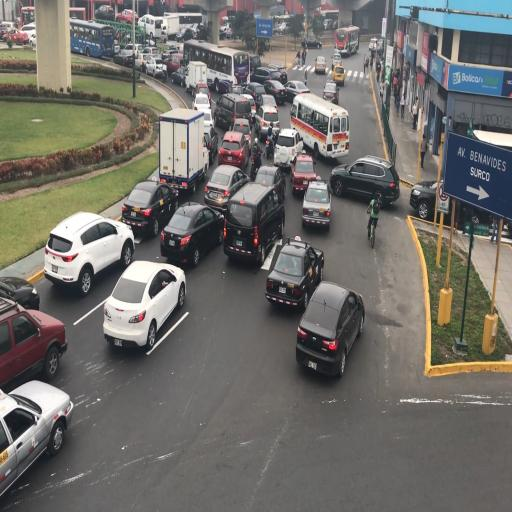auto: (2, 379, 72, 507), (44, 206, 133, 291), (104, 260, 185, 351), (1, 290, 67, 396), (295, 282, 363, 377), (225, 180, 283, 264), (159, 202, 223, 269), (266, 236, 322, 310), (331, 155, 398, 207), (122, 178, 178, 238), (43, 228, 82, 286), (205, 163, 248, 212), (410, 180, 451, 222), (301, 178, 331, 230), (215, 92, 252, 134), (0, 274, 39, 313), (253, 163, 286, 206), (217, 130, 251, 170), (274, 127, 302, 170), (290, 154, 316, 197), (255, 103, 279, 141), (252, 65, 284, 88), (262, 78, 288, 103), (284, 80, 310, 103), (162, 52, 184, 79), (144, 55, 167, 79), (193, 90, 212, 118), (117, 43, 140, 66), (0, 28, 29, 45), (134, 48, 152, 71), (322, 78, 339, 101), (115, 8, 138, 25), (94, 4, 114, 22), (332, 64, 346, 86), (300, 36, 322, 49), (142, 44, 160, 58), (314, 56, 327, 74), (218, 25, 234, 38), (331, 50, 342, 66), (368, 39, 378, 52), (281, 22, 290, 34)
bus: (159, 108, 206, 199), (186, 60, 209, 97)
moto: (291, 92, 348, 160), (184, 39, 246, 91), (69, 18, 114, 58), (165, 11, 204, 40), (336, 25, 359, 57), (140, 13, 166, 41), (20, 6, 35, 28)
